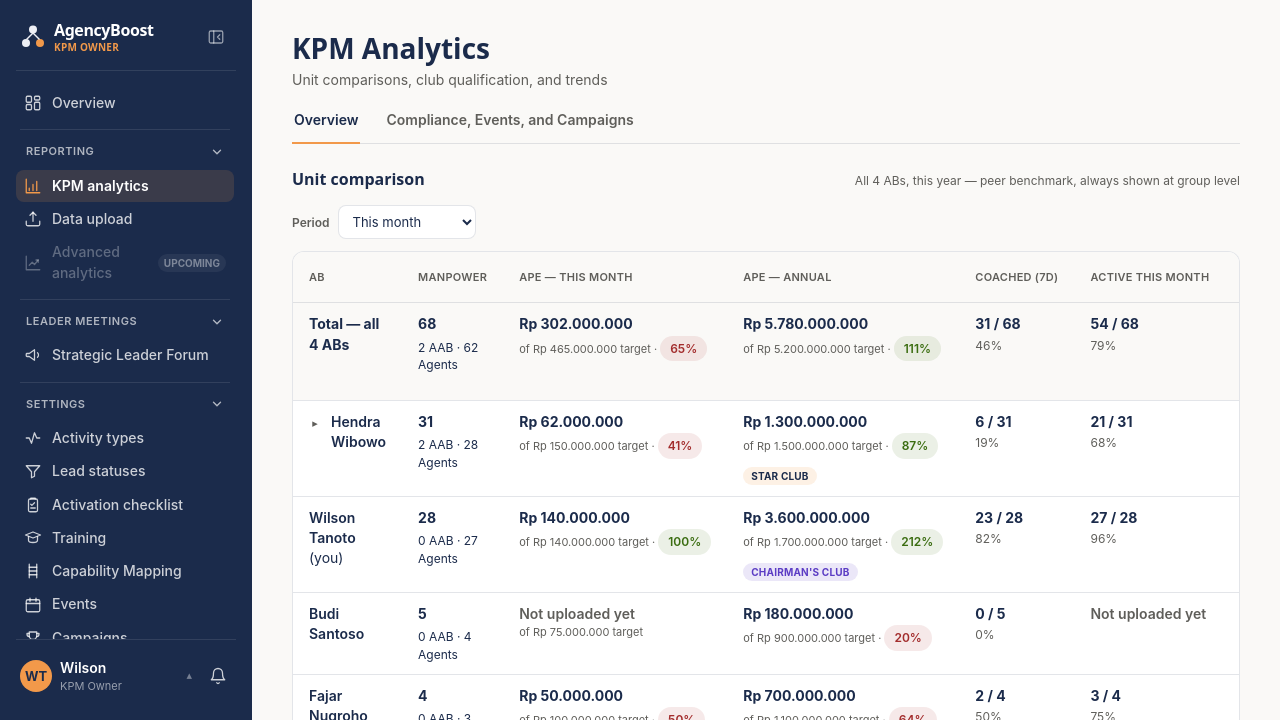
Test: KPM analytics (P18-T2) › AC-2 the table, verbatim › opens and closes an agency from its row, as the prototype’s row click does (:3417-3422)
The image size is (1280, 720).
Click the text "Rp 1.300.000.000": (805, 421) [743,413,867,430]
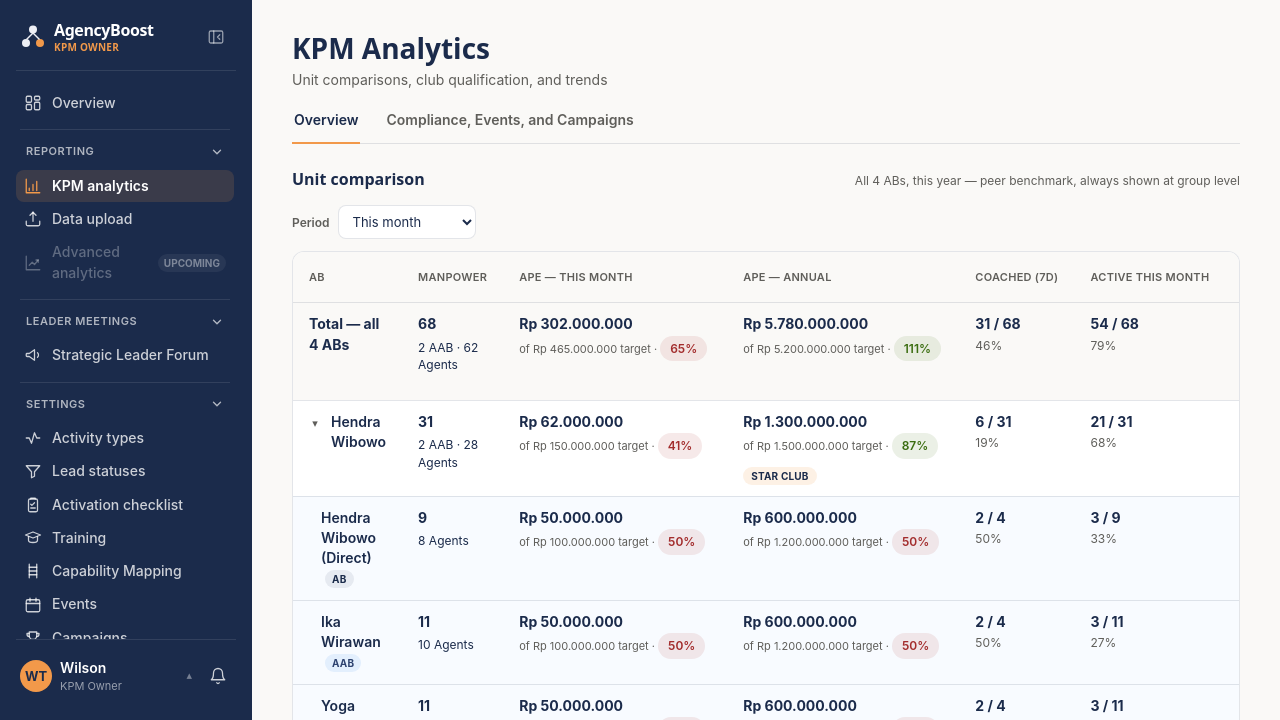
Result: the column heading "Ika Wirawan" is shown at [293,600,402,684]
